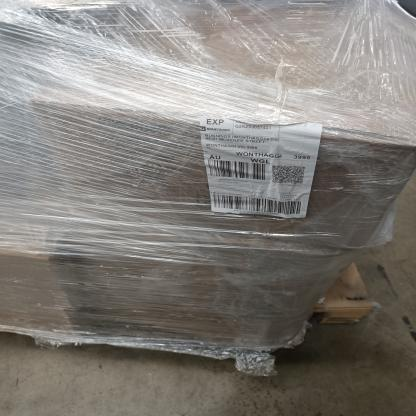label: (189, 109, 326, 228)
package: (0, 0, 366, 377)
